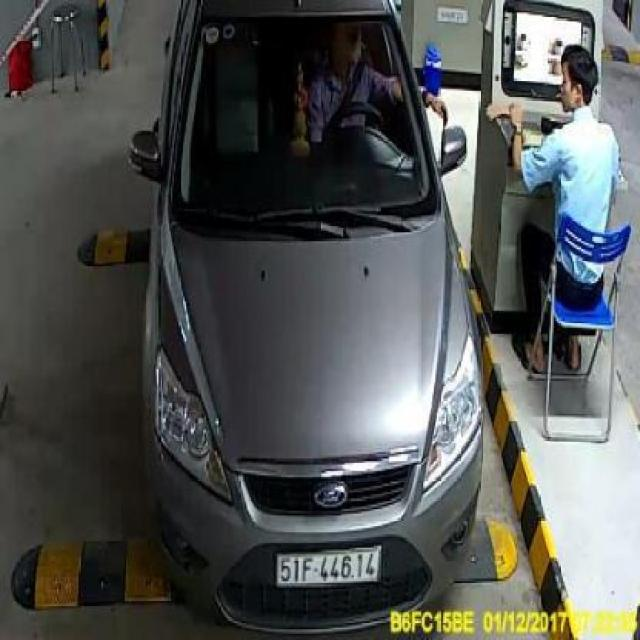number_plate: (274, 543, 383, 585)
